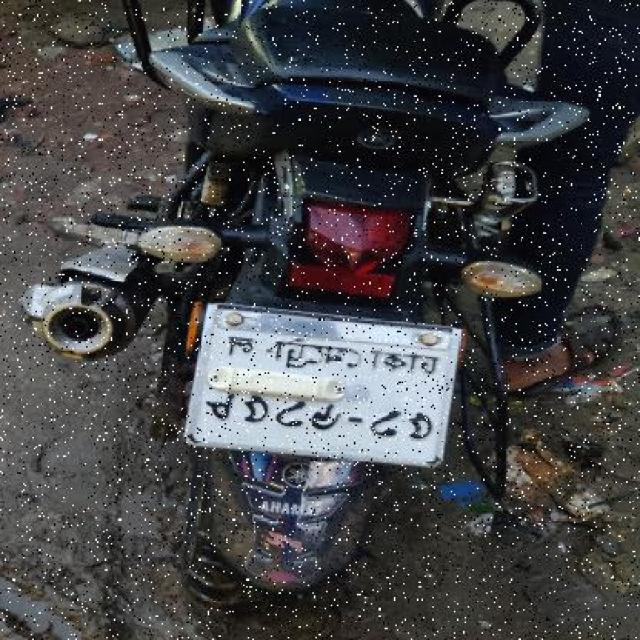numberplate: (182, 300, 464, 469)
